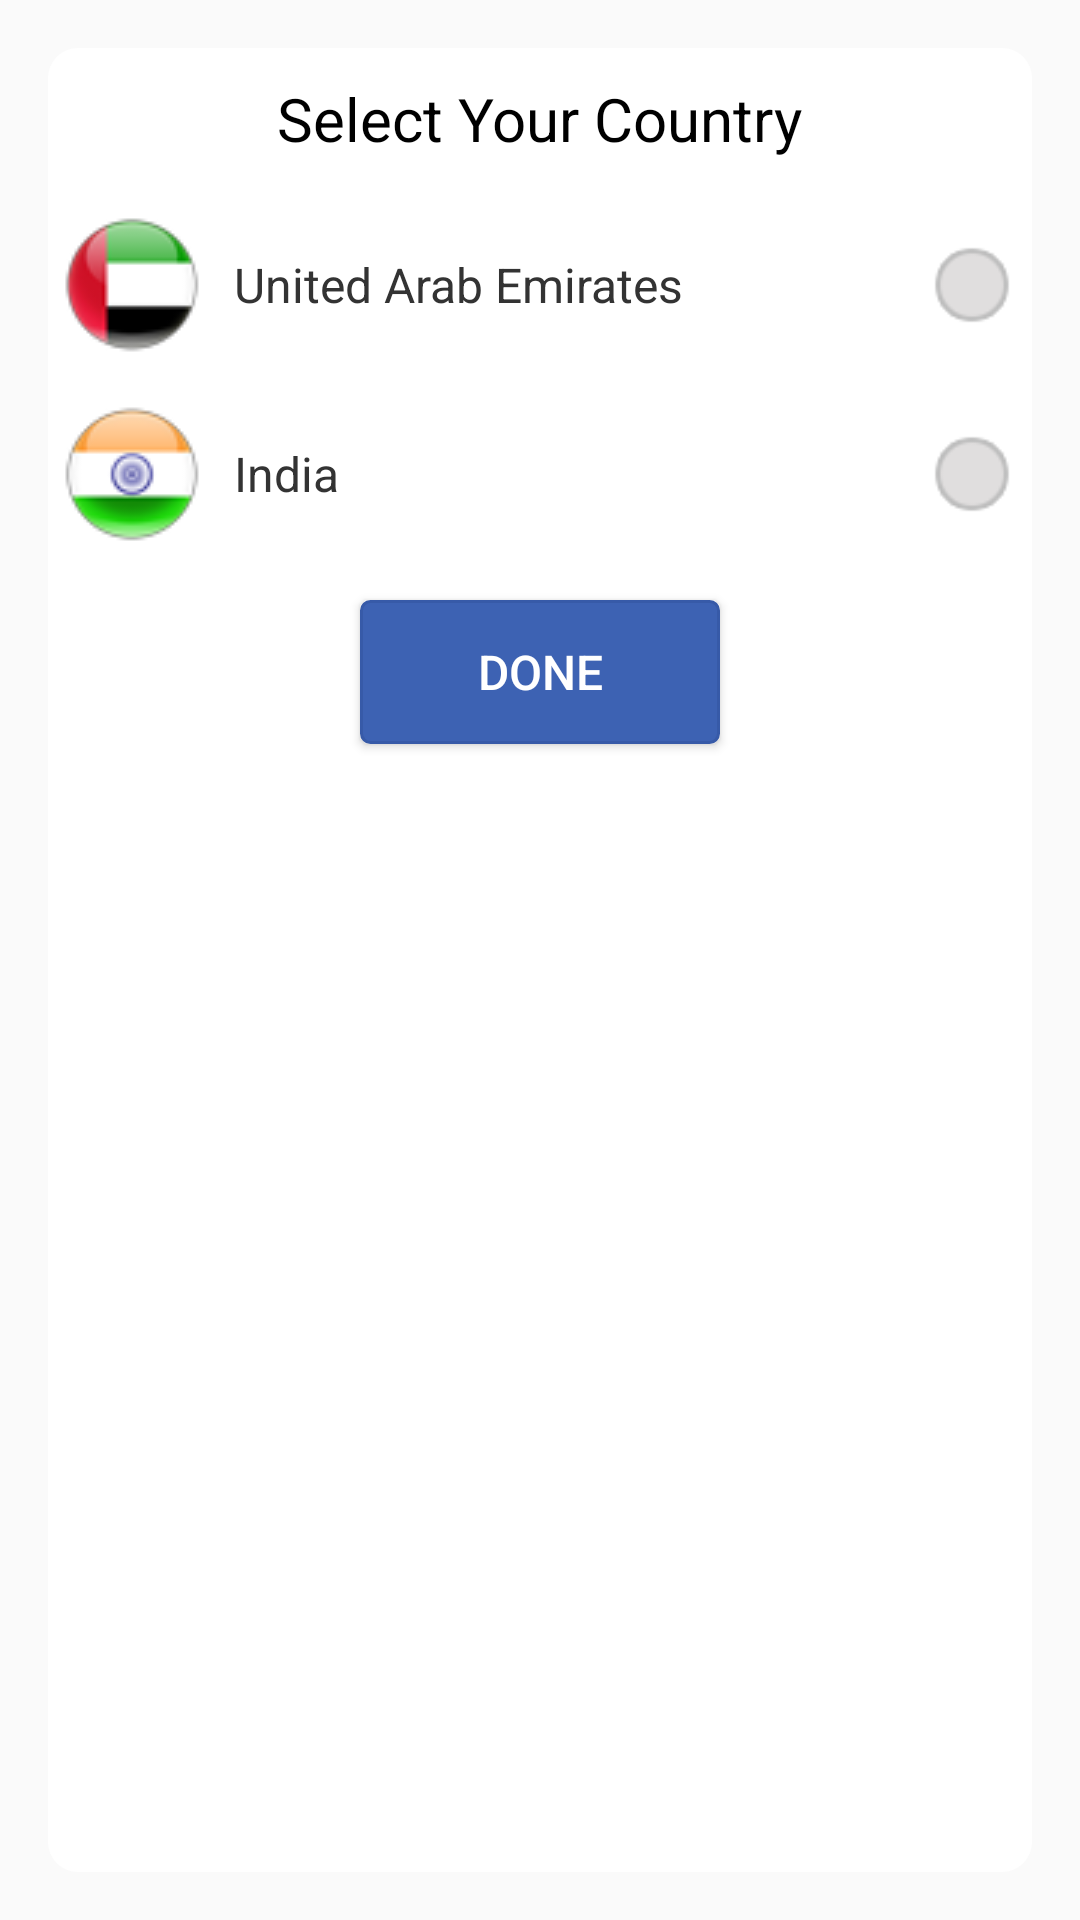

Named icons in this screenshot (1080w x 1920h) and their bounding boxes, (x1, y1, x2, y2):
uae flag: (65, 218, 198, 351)
